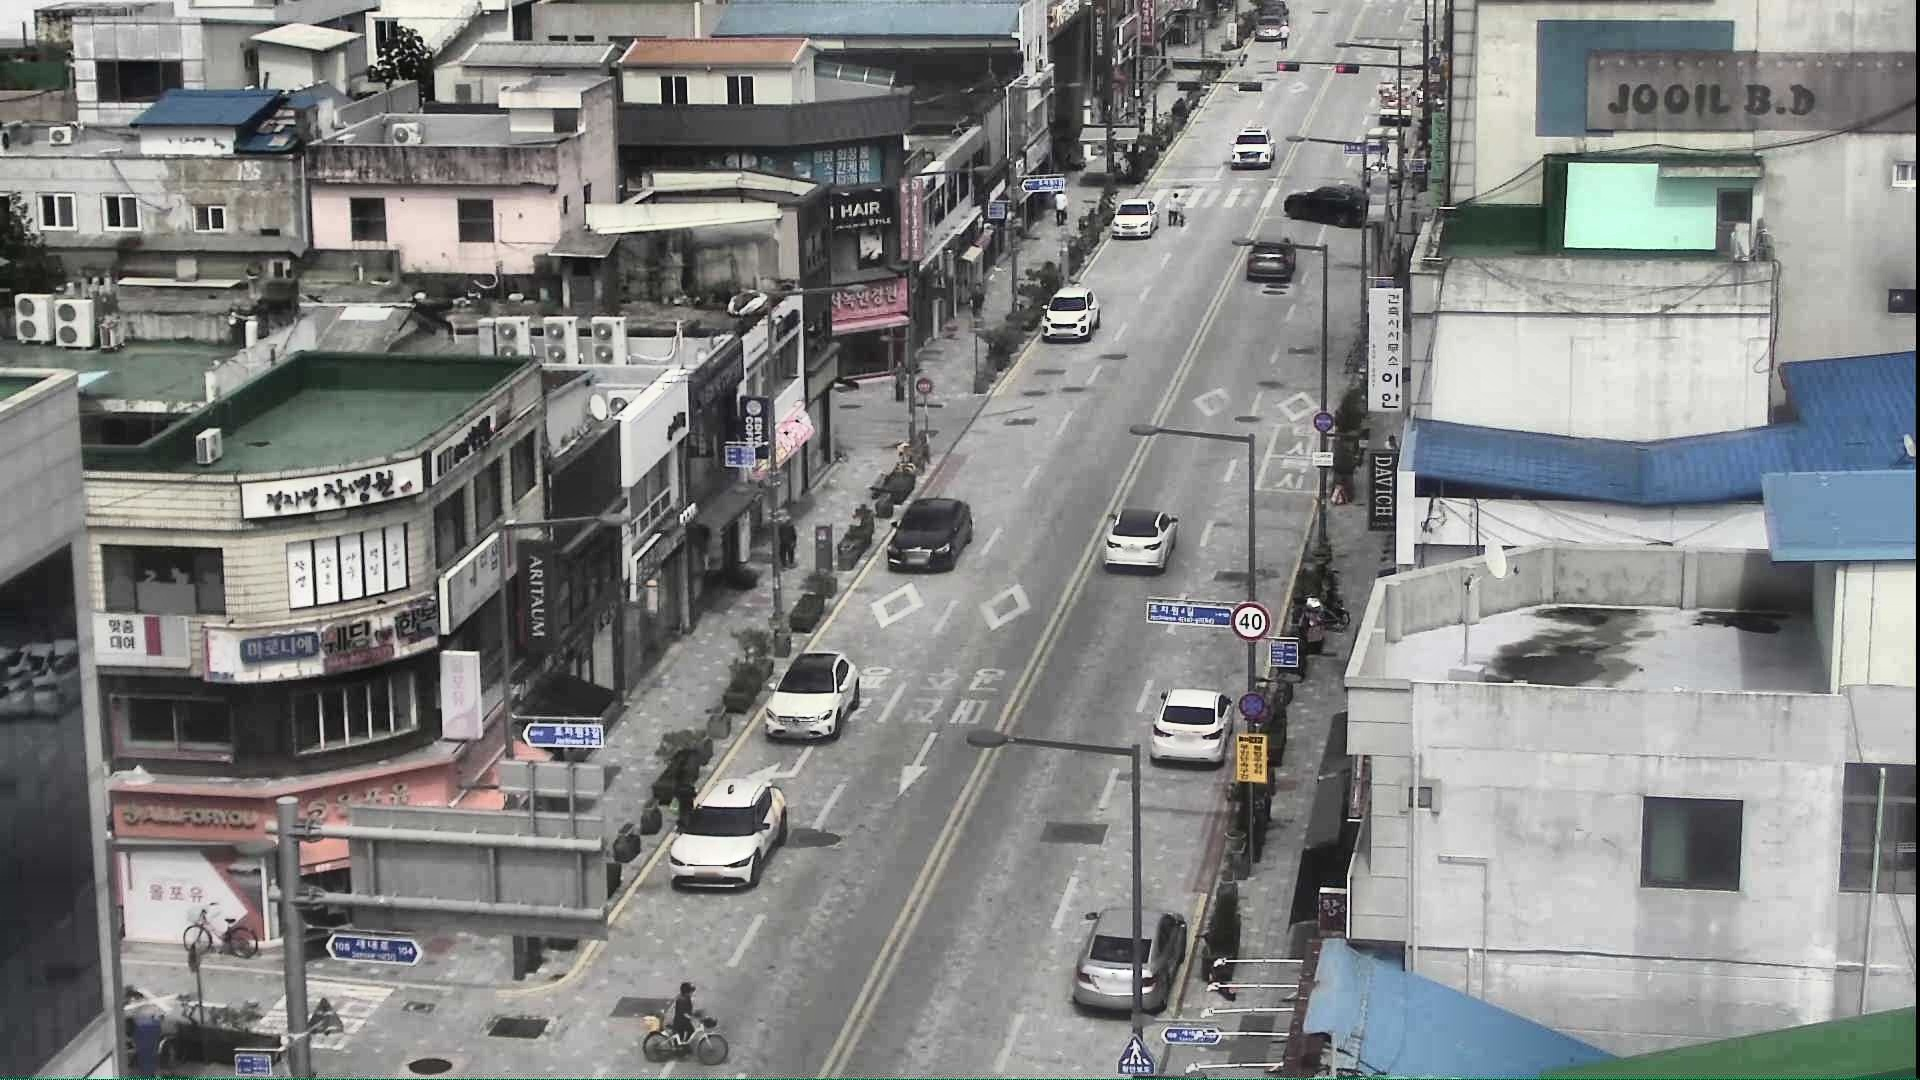jaywalk: (670, 976, 702, 1059), (1164, 189, 1183, 228), (1274, 24, 1290, 50)
sidewalk: (777, 513, 799, 568), (967, 280, 986, 318), (890, 359, 907, 401), (1054, 189, 1069, 228)
